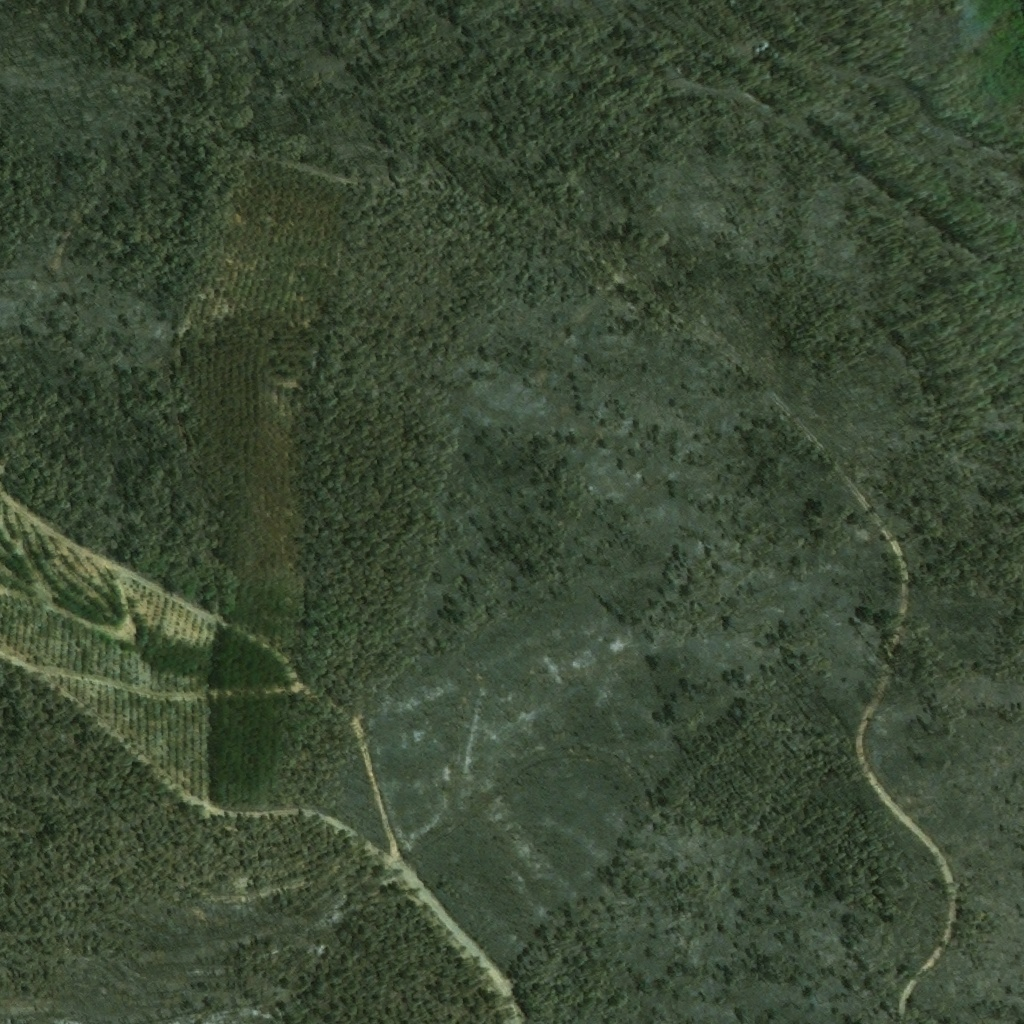4 un-classified: (168, 345, 189, 368), (956, 923, 969, 937), (0, 299, 9, 311)
